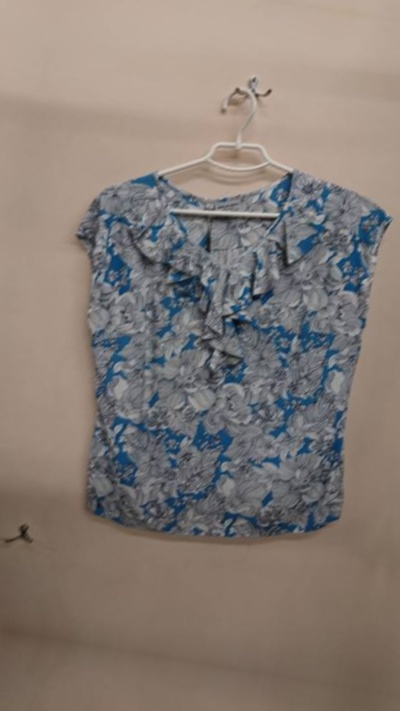Blouse: (23, 114, 400, 578)
